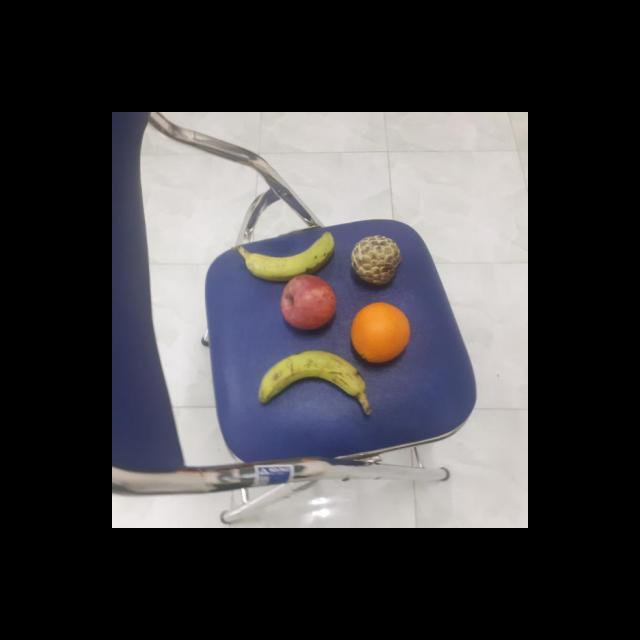apple: (243, 228, 339, 285), (276, 274, 341, 332)
banana: (258, 348, 368, 408)
orange: (348, 300, 415, 365)
